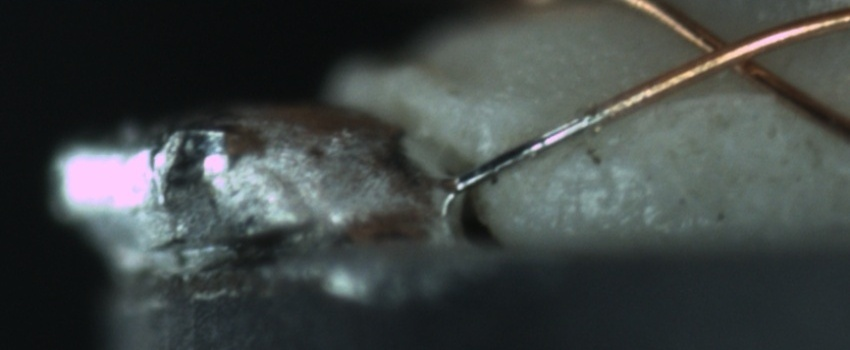CL: (674, 16, 784, 86)
TS: (451, 106, 607, 194)
